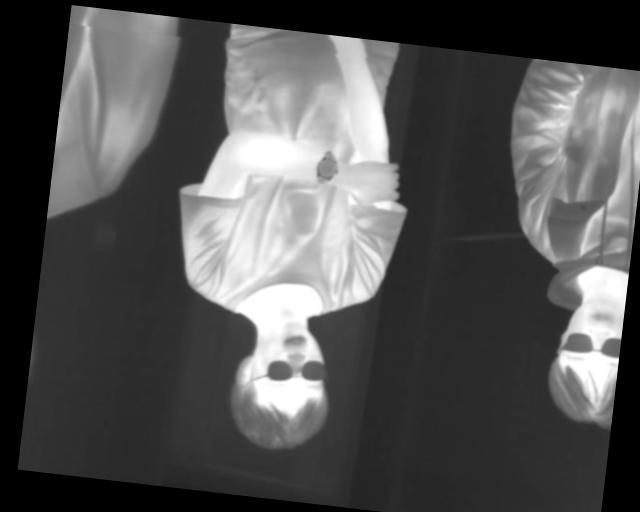face: (227, 315, 338, 456), (542, 294, 624, 431)
